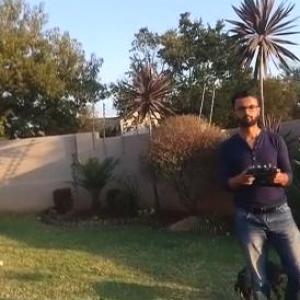follow: (219, 81, 300, 299)
